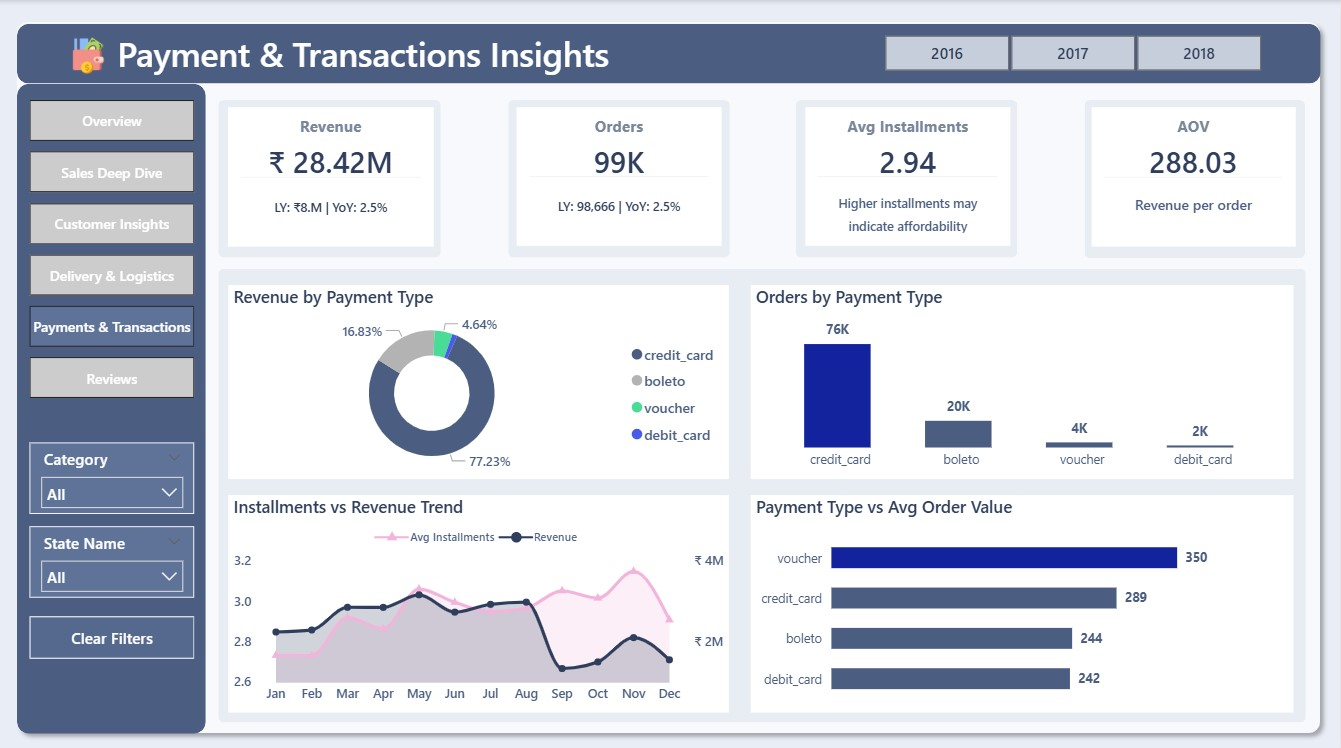

The dashboard page shown, as its layout file describes it:
{"tool":"powerbi","page":{"name":"Payments & Transactions","canvas":[1280,720],"ordinal":4},"visuals":[{"type":"shape","box":[9.5,11.9,1259.5,695.2],"z":0},{"type":"shape","box":[19,22.6,1241.7,57.1],"z":1000},{"type":"textbox","box":[109.5,25,600,54.8],"z":2000},{"type":"slicer","fields":{"Values":["DimDate.Year"]},"box":[823.8,31,400,39.3],"z":3000},{"type":"shape","box":[19,79.8,179.8,619.1],"z":4000},{"type":"slicer","fields":{"Values":["bi_fact_sales_full.category"]},"box":[31,421.4,157.1,67.9],"z":5000},{"type":"slicer","fields":{"Values":["bi_fact_sales_full.State Name"]},"box":[31,501.2,157.1,67.9],"z":6000},{"type":"actionButton","box":[31,586.9,157.1,40.5],"z":7000},{"type":"shape","box":[210.7,95.1,211.9,150],"z":8000},{"type":"cardVisual","fields":{"Data":["bi_fact_sales_full.Revenue"]},"box":[211.4,91.2,212.7,150.6],"z":9000},{"type":"shape","box":[486.4,95.1,211,150],"z":10000},{"type":"shape","box":[761.1,95.1,211,150],"z":11000},{"type":"shape","box":[1035.8,95.1,210.1,150.6],"z":12000},{"type":"cardVisual","fields":{"Data":["bi_fact_sales_full.AOV"]},"box":[1034.5,91.2,210.1,150.6],"z":13000},{"type":"cardVisual","fields":{"Data":["bi_fact_sales_full.Avg Installments"]},"box":[761.5,91.2,210.1,149.3],"z":14000},{"type":"cardVisual","fields":{"Data":["bi_fact_sales_full.Orders"]},"box":[487.1,91.2,211.4,149.3],"z":15000},{"type":"shape","box":[210.7,256,1035.7,432.1],"z":16000},{"type":"donutChart","title":"Revenue by Payment Type","fields":{"Category":["bi_fact_sales_full.payment_type"],"Y":["bi_fact_sales_full.Revenue"]},"box":[220.6,270.9,477,185],"z":17000},{"type":"lineChart","title":"Installments vs Revenue Trend","fields":{"Category":["DimDate.Month"],"Y":["bi_fact_sales_full.Avg Installments"],"Y2":["bi_fact_sales_full.Revenue"]},"box":[220.6,471.7,477,207.4],"z":18000},{"type":"clusteredColumnChart","title":"Orders by Payment Type","fields":{"Category":["bi_fact_sales_full.payment_type"],"Y":["bi_fact_sales_full.Orders"]},"box":[717.4,270.9,516.6,185],"z":19000},{"type":"clusteredBarChart","title":"Payment Type vs Avg Order Value","fields":{"Category":["bi_fact_sales_full.payment_type"],"Y":["bi_fact_sales_full.AOV"]},"box":[717.4,471.7,516.6,207.4],"z":20000},{"type":"pageNavigator","box":[31,95.2,157.1,284.5],"z":21000},{"type":"image","box":[31,35.7,111.9,34.5],"z":21001}]}

Visuals, with their boxes in screenshot pixels (x1, y1, x2, y2), scaled from the page's 1280x720 canvas onto the 1341x748 screenshot:
shape: [10,12,1329,735]
shape: [20,23,1321,83]
textbox: [115,26,743,83]
slicer - DimDate.Year: [863,32,1282,73]
shape: [20,83,208,726]
slicer - bi_fact_sales_full.category: [32,438,197,508]
slicer - bi_fact_sales_full.State Name: [32,521,197,591]
actionButton: [32,610,197,652]
shape: [221,99,443,255]
cardVisual - bi_fact_sales_full.Revenue: [221,95,444,251]
shape: [510,99,731,255]
shape: [797,99,1018,255]
shape: [1085,99,1305,255]
cardVisual - bi_fact_sales_full.AOV: [1084,95,1304,251]
cardVisual - bi_fact_sales_full.Avg Installments: [798,95,1018,250]
cardVisual - bi_fact_sales_full.Orders: [510,95,732,250]
shape: [221,266,1306,715]
"Revenue by Payment Type" donutChart: [231,281,731,474]
"Installments vs Revenue Trend" lineChart: [231,490,731,706]
"Orders by Payment Type" clusteredColumnChart: [752,281,1293,474]
"Payment Type vs Avg Order Value" clusteredBarChart: [752,490,1293,706]
pageNavigator: [32,99,197,394]
image: [32,37,150,73]
